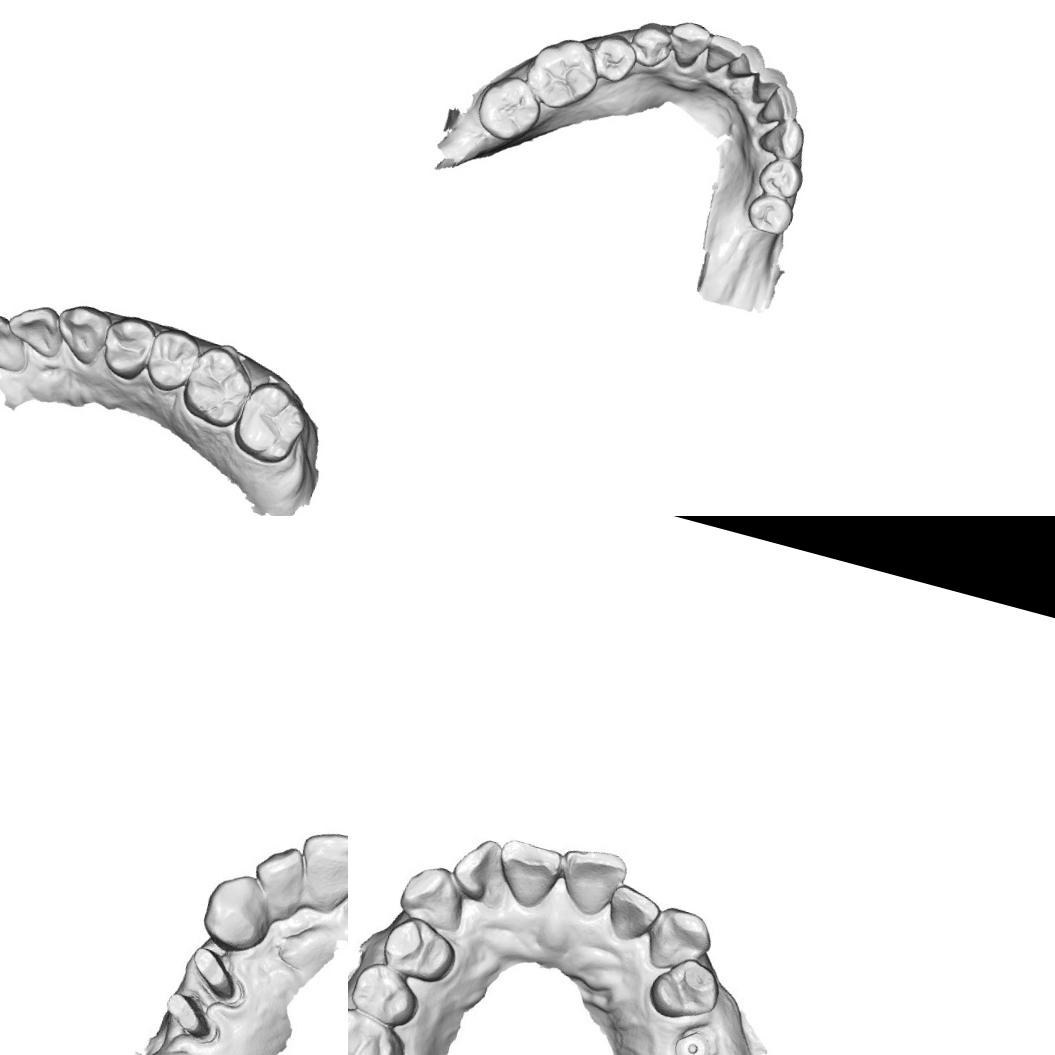canine: (202, 871, 280, 955), (391, 857, 472, 935), (640, 900, 716, 980), (46, 298, 114, 369), (752, 110, 812, 164), (660, 14, 713, 74)
crown: (185, 939, 242, 1002), (157, 984, 215, 1042)
implant: (669, 1021, 715, 1055)
incisor: (548, 839, 629, 923), (490, 835, 566, 912), (250, 846, 314, 924), (291, 827, 348, 912), (448, 831, 513, 903), (1, 296, 70, 361), (602, 883, 664, 948), (0, 305, 37, 377), (698, 29, 746, 80), (756, 80, 804, 130), (723, 38, 770, 88), (746, 61, 790, 108)
molar: (226, 374, 314, 470), (518, 27, 608, 118), (176, 336, 258, 432), (470, 68, 548, 148), (348, 999, 411, 1055)
premolar: (642, 948, 729, 1030), (376, 912, 462, 988), (348, 957, 427, 1032), (94, 310, 160, 385), (139, 322, 204, 398), (585, 28, 641, 87), (623, 15, 677, 74), (751, 151, 808, 204), (740, 188, 798, 240)
